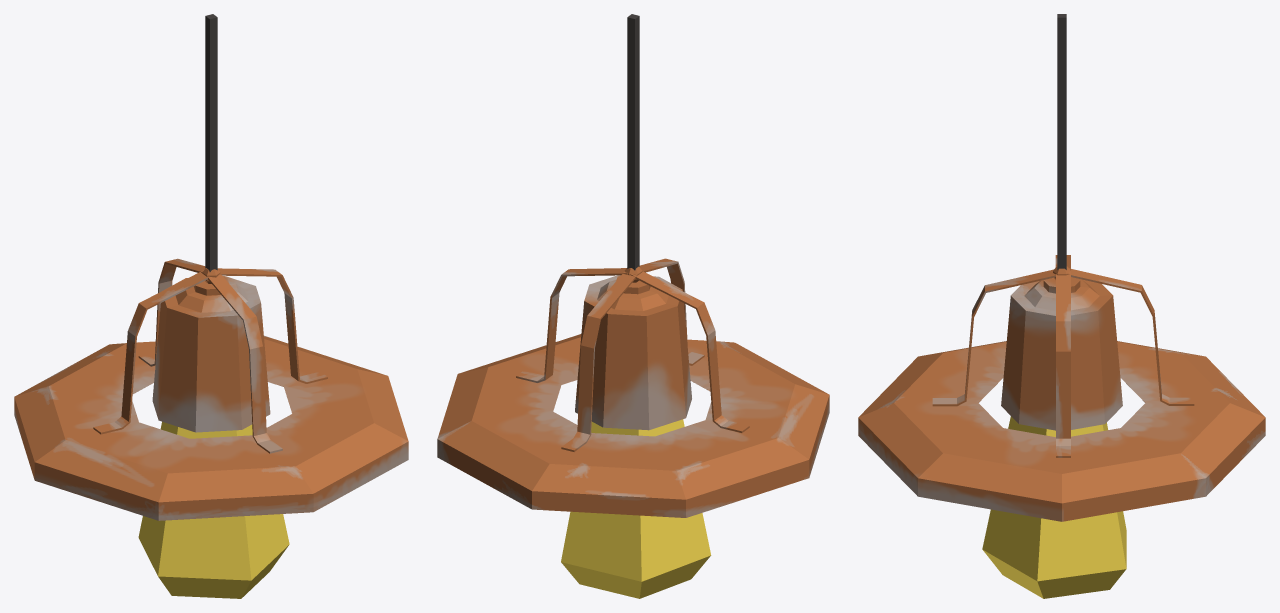
File: chandelier.fbx
3 renders of one model, left to right at view 1: azimuth 30°, elevation 25°; view 2: azimuth 150°, elevation 25°; view 3: azimuth 270°, elevation 25°, orthographic.
Parts seen in each view (by area): view 1: Cylinder, Cylinder.001; view 2: Cylinder, Cylinder.001; view 3: Cylinder, Cylinder.001.
Part boxes in pixels (<box>): Cylinder: <box>14,14,408,520</box>; Cylinder.001: <box>138,421,289,598</box>; Cylinder: <box>437,14,829,517</box>; Cylinder.001: <box>561,419,711,598</box>; Cylinder: <box>858,14,1265,521</box>; Cylinder.001: <box>982,416,1126,598</box>.
Bounding box in the file's own units: 200 × 303 × 200.
Materials: 1 (1 with a texture image).
